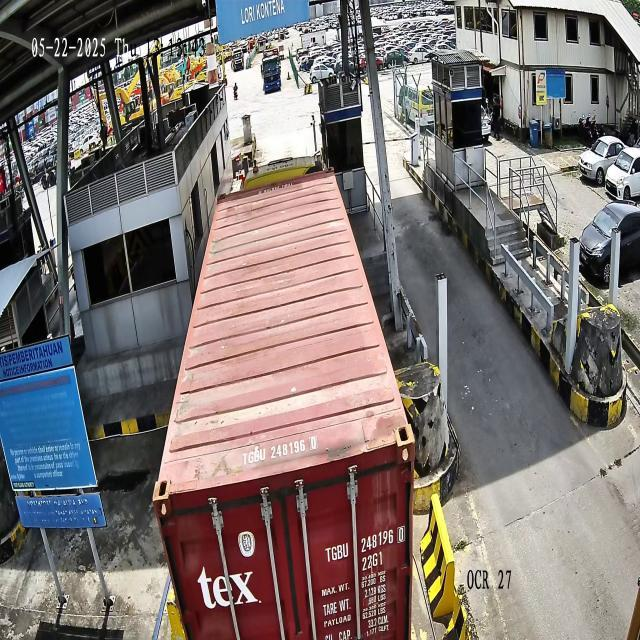ISO: (362, 550, 384, 572)
container_number: (324, 524, 405, 564)
